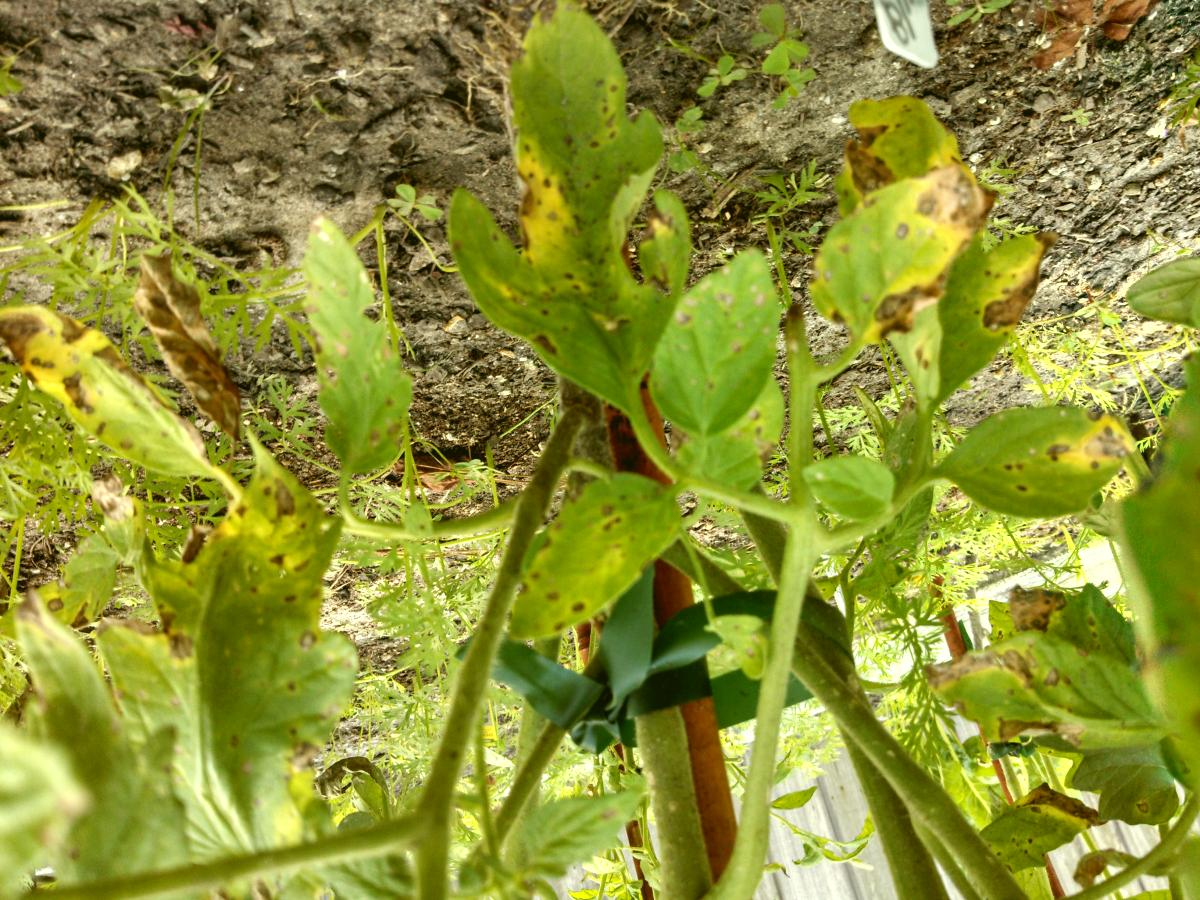Tomato Septoria leaf spot: (442, 6, 714, 415), (270, 177, 431, 520), (900, 206, 1088, 417), (798, 162, 970, 392), (495, 459, 690, 645), (643, 239, 795, 453), (946, 402, 1143, 532)
